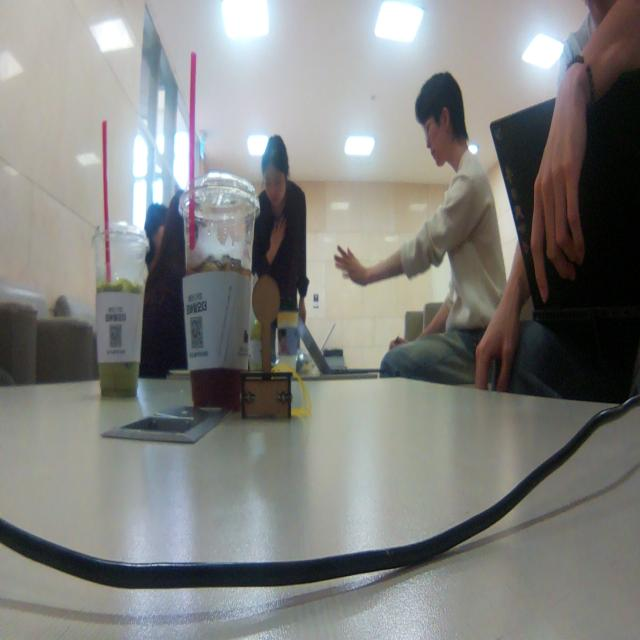target: (240, 274, 292, 420)
